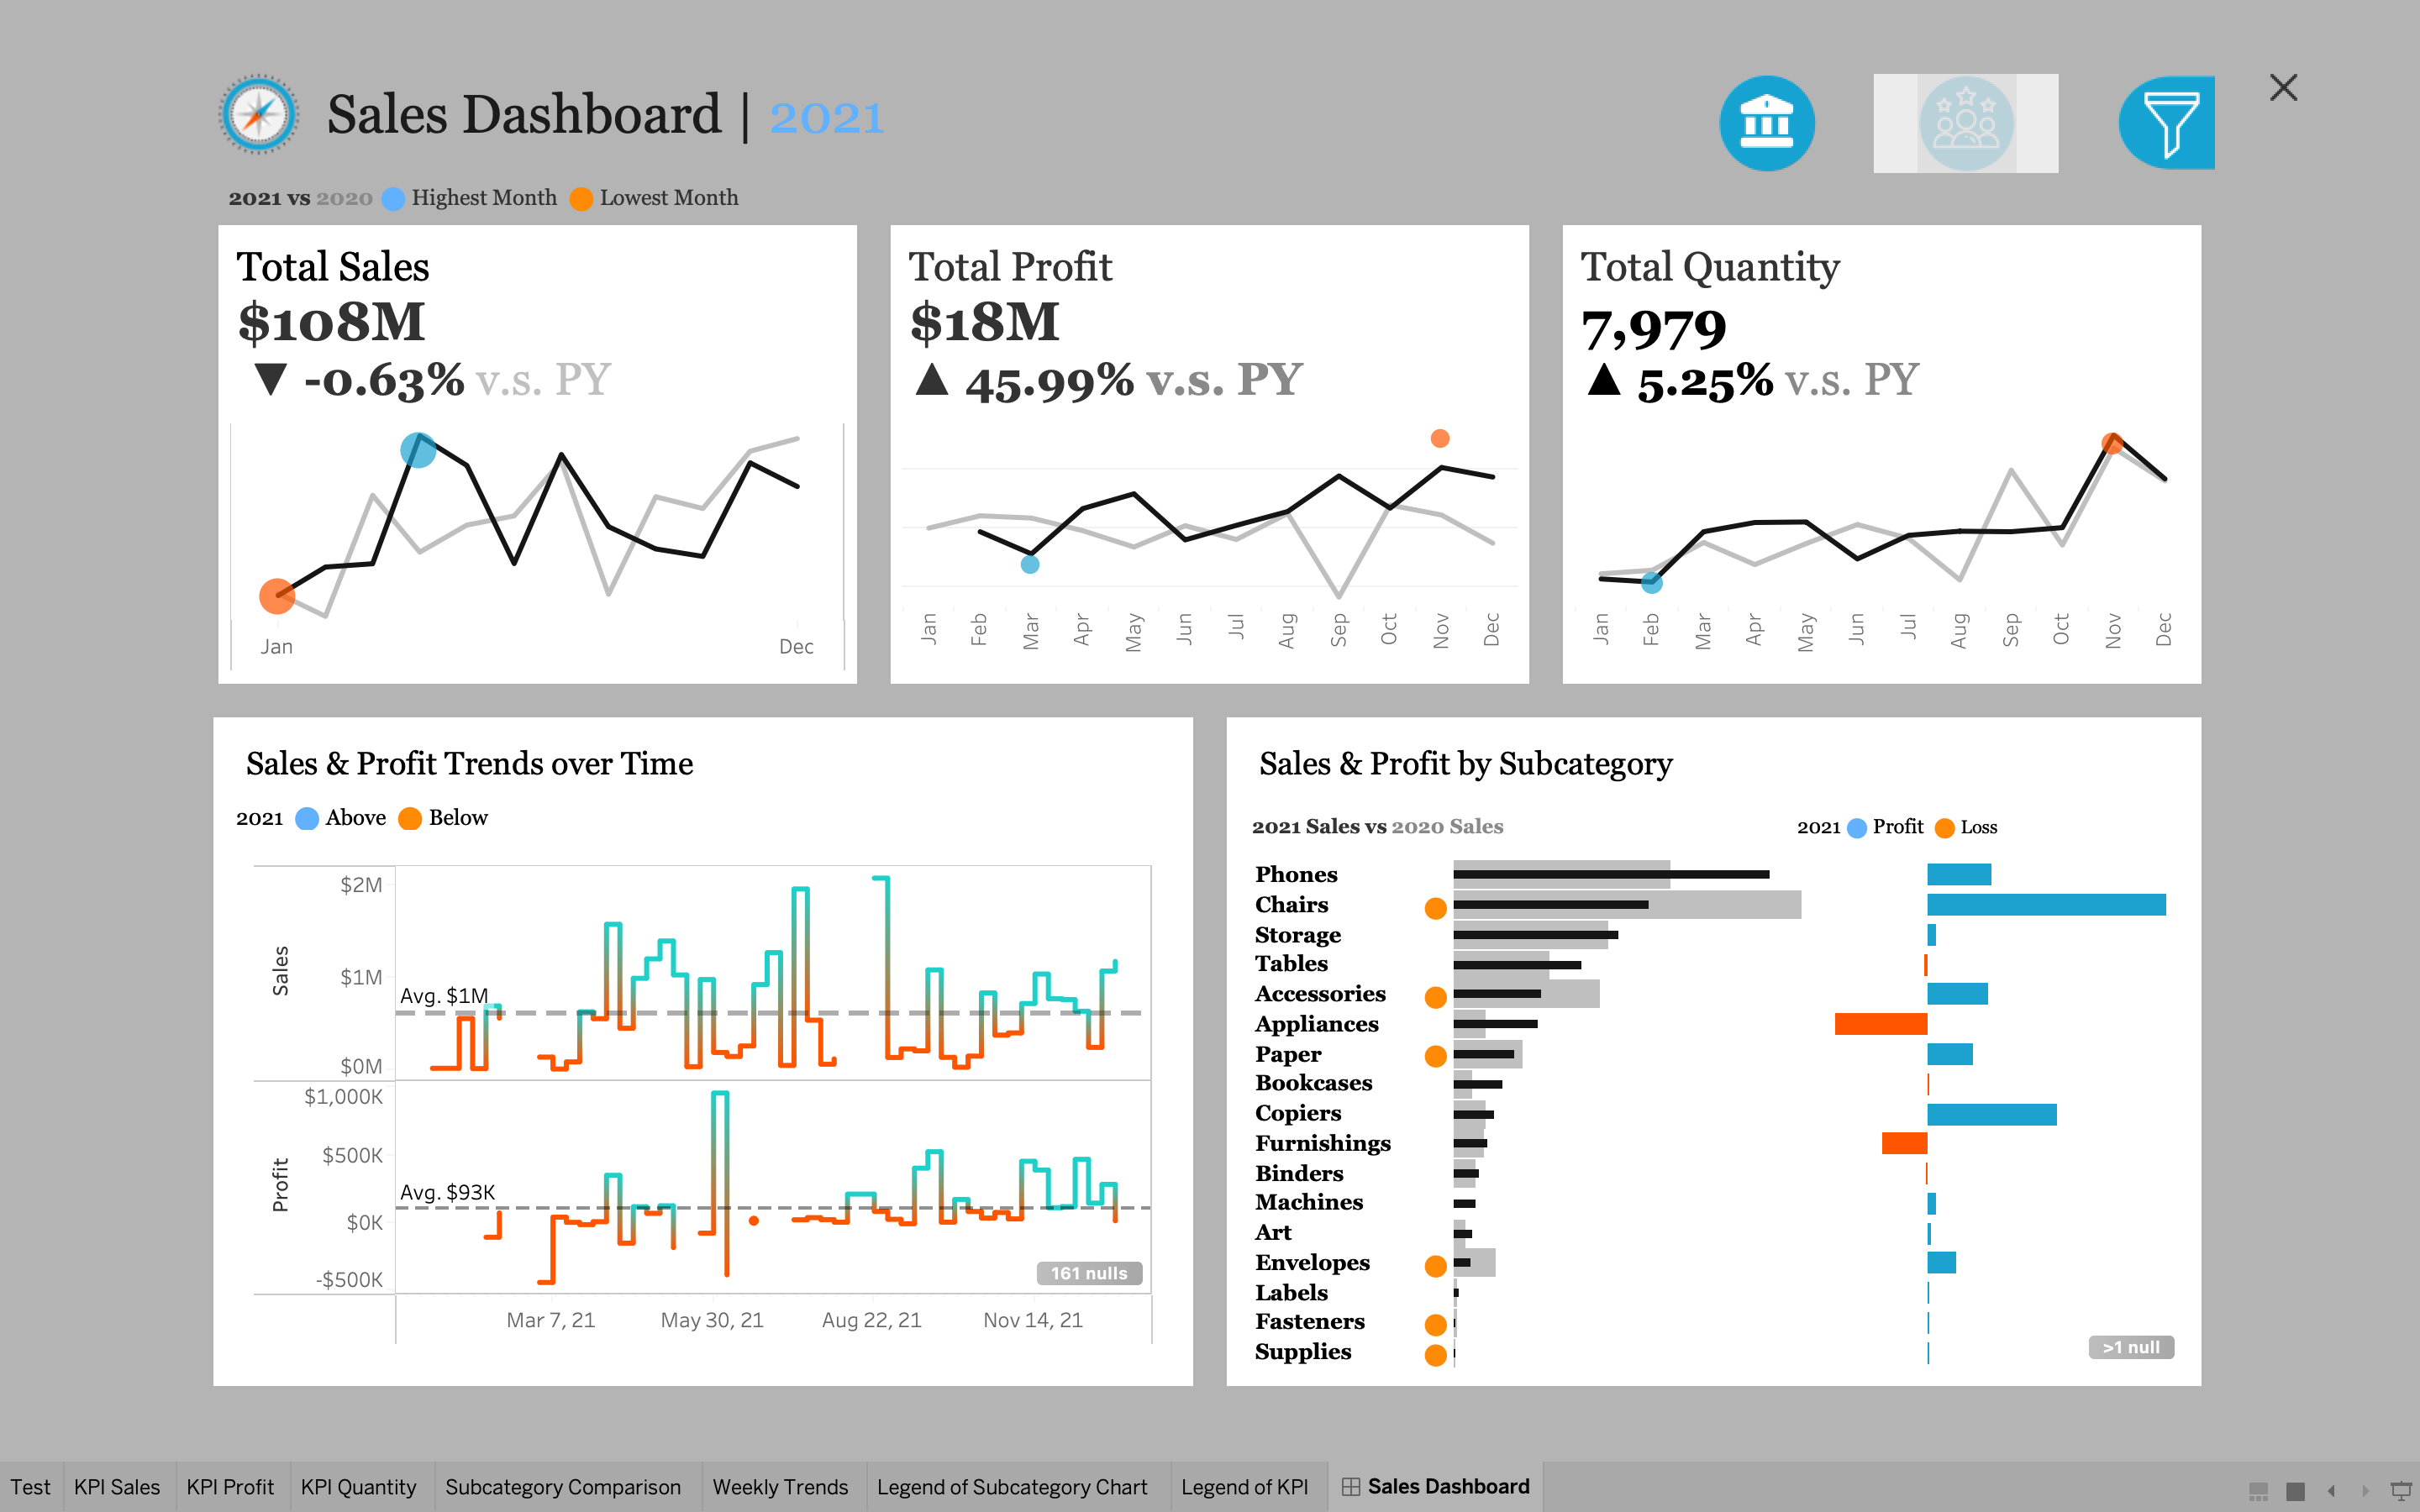

This screenshot's page, from the dashboard's own definition file:
{"tool":"tableau","page":{"name":"Sales Dashboard","canvas":[1200,800],"ordinal":0},"visuals":[{"type":"image","param":"Image/Icon - Logo.png","box":[0,0,68,67]},{"type":"text","box":[68,0,774,67]},{"type":"dashboard-object","box":[872,5,119,67]},{"type":"dashboard-object","box":[991,5,118,67]},{"type":"text","box":[1010,22,165,34]},{"type":"blank","box":[1010,56,165,32]},{"type":"worksheet","title":"Legend of KPI","mark":"Automatic","box":[0,67,1200,32]},{"type":"parameter","param":"[Parameters].[Parameter 0420630438912004]","box":[1010,88,165,35]},{"type":"worksheet","title":"KPI Sales","mark":"Automatic","rows":["Calculation_0420630443028487"],"cols":["Order Date"],"box":[0,99,400,283]},{"type":"worksheet","title":"KPI Profit","mark":"Automatic","rows":["min/ max sales (copy)_0420630486798354"],"cols":["Order Date"],"box":[400,99,400,283]},{"type":"worksheet","title":"KPI Quantity","mark":"Automatic","rows":["min/ max profit (copy)_0420630514769943"],"cols":["Order Date"],"box":[800,99,400,283]},{"type":"text","box":[1010,123,165,23]},{"type":"filter","title":"KPI Sales","param":"[federated.010s6qv1yrsp8n118k5511jhjum3].[none:Category:nk]","box":[1010,146,165,52]},{"type":"filter","title":"KPI Sales","param":"[federated.010s6qv1yrsp8n118k5511jhjum3].[none:Sub-Category:nk]","box":[1010,198,165,53]},{"type":"blank","box":[1010,251,165,32]},{"type":"text","box":[1010,283,165,23]},{"type":"filter","title":"KPI Sales","param":"[federated.010s6qv1yrsp8n118k5511jhjum3].[none:Region:nk]","box":[1010,306,165,52]},{"type":"filter","title":"KPI Sales","param":"[federated.010s6qv1yrsp8n118k5511jhjum3].[none:State:nk]","box":[1010,358,165,52]},{"type":"text","box":[14,399,569,41]},{"type":"text","box":[617,399,566,42]},{"type":"filter","title":"KPI Sales","param":"[federated.010s6qv1yrsp8n118k5511jhjum3].[none:City:nk]","box":[1010,410,165,43]},{"type":"text","box":[14,440,569,23]},{"type":"worksheet","title":"Legend of Subcategory Chart","mark":"Automatic","box":[617,441,326,32]},{"type":"text","box":[943,441,240,32]},{"type":"worksheet","title":"Weekly Trends","mark":"Automatic","rows":["Calculation_0420630438146048","Calculation_0420630484332556"],"cols":["Order Date"],"box":[14,463,569,320]},{"type":"worksheet","title":"Subcategory Comparison","mark":"Bar","rows":["Sub-Category","Calculation_0420630522867740"],"cols":["Calculation_0420630438481921","Calculation_0420630438146048","Calculation_0420630484332556"],"box":[617,473,566,310]}]}

Visuals, with their boxes on the page's 1200x800 design canvas (x1, y1, x2, y2). These are canvas units, not pixel positions in the 2420x1512 screenshot, which may show the page scaled, cropped or inside an application window:
image: x1=0 y1=0 x2=68 y2=67
text: x1=68 y1=0 x2=842 y2=67
dashboard-object: x1=872 y1=5 x2=991 y2=72
dashboard-object: x1=991 y1=5 x2=1109 y2=72
text: x1=1010 y1=22 x2=1175 y2=56
blank: x1=1010 y1=56 x2=1175 y2=88
"Legend of KPI" worksheet: x1=0 y1=67 x2=1200 y2=99
parameter: x1=1010 y1=88 x2=1175 y2=123
"KPI Sales" worksheet: x1=0 y1=99 x2=400 y2=382
"KPI Profit" worksheet: x1=400 y1=99 x2=800 y2=382
"KPI Quantity" worksheet: x1=800 y1=99 x2=1200 y2=382
text: x1=1010 y1=123 x2=1175 y2=146
"KPI Sales" filter: x1=1010 y1=146 x2=1175 y2=198
"KPI Sales" filter: x1=1010 y1=198 x2=1175 y2=251
blank: x1=1010 y1=251 x2=1175 y2=283
text: x1=1010 y1=283 x2=1175 y2=306
"KPI Sales" filter: x1=1010 y1=306 x2=1175 y2=358
"KPI Sales" filter: x1=1010 y1=358 x2=1175 y2=410
text: x1=14 y1=399 x2=583 y2=440
text: x1=617 y1=399 x2=1183 y2=441
"KPI Sales" filter: x1=1010 y1=410 x2=1175 y2=453
text: x1=14 y1=440 x2=583 y2=463
"Legend of Subcategory Chart" worksheet: x1=617 y1=441 x2=943 y2=473
text: x1=943 y1=441 x2=1183 y2=473
"Weekly Trends" worksheet: x1=14 y1=463 x2=583 y2=783
"Subcategory Comparison" worksheet (Bar marks): x1=617 y1=473 x2=1183 y2=783
